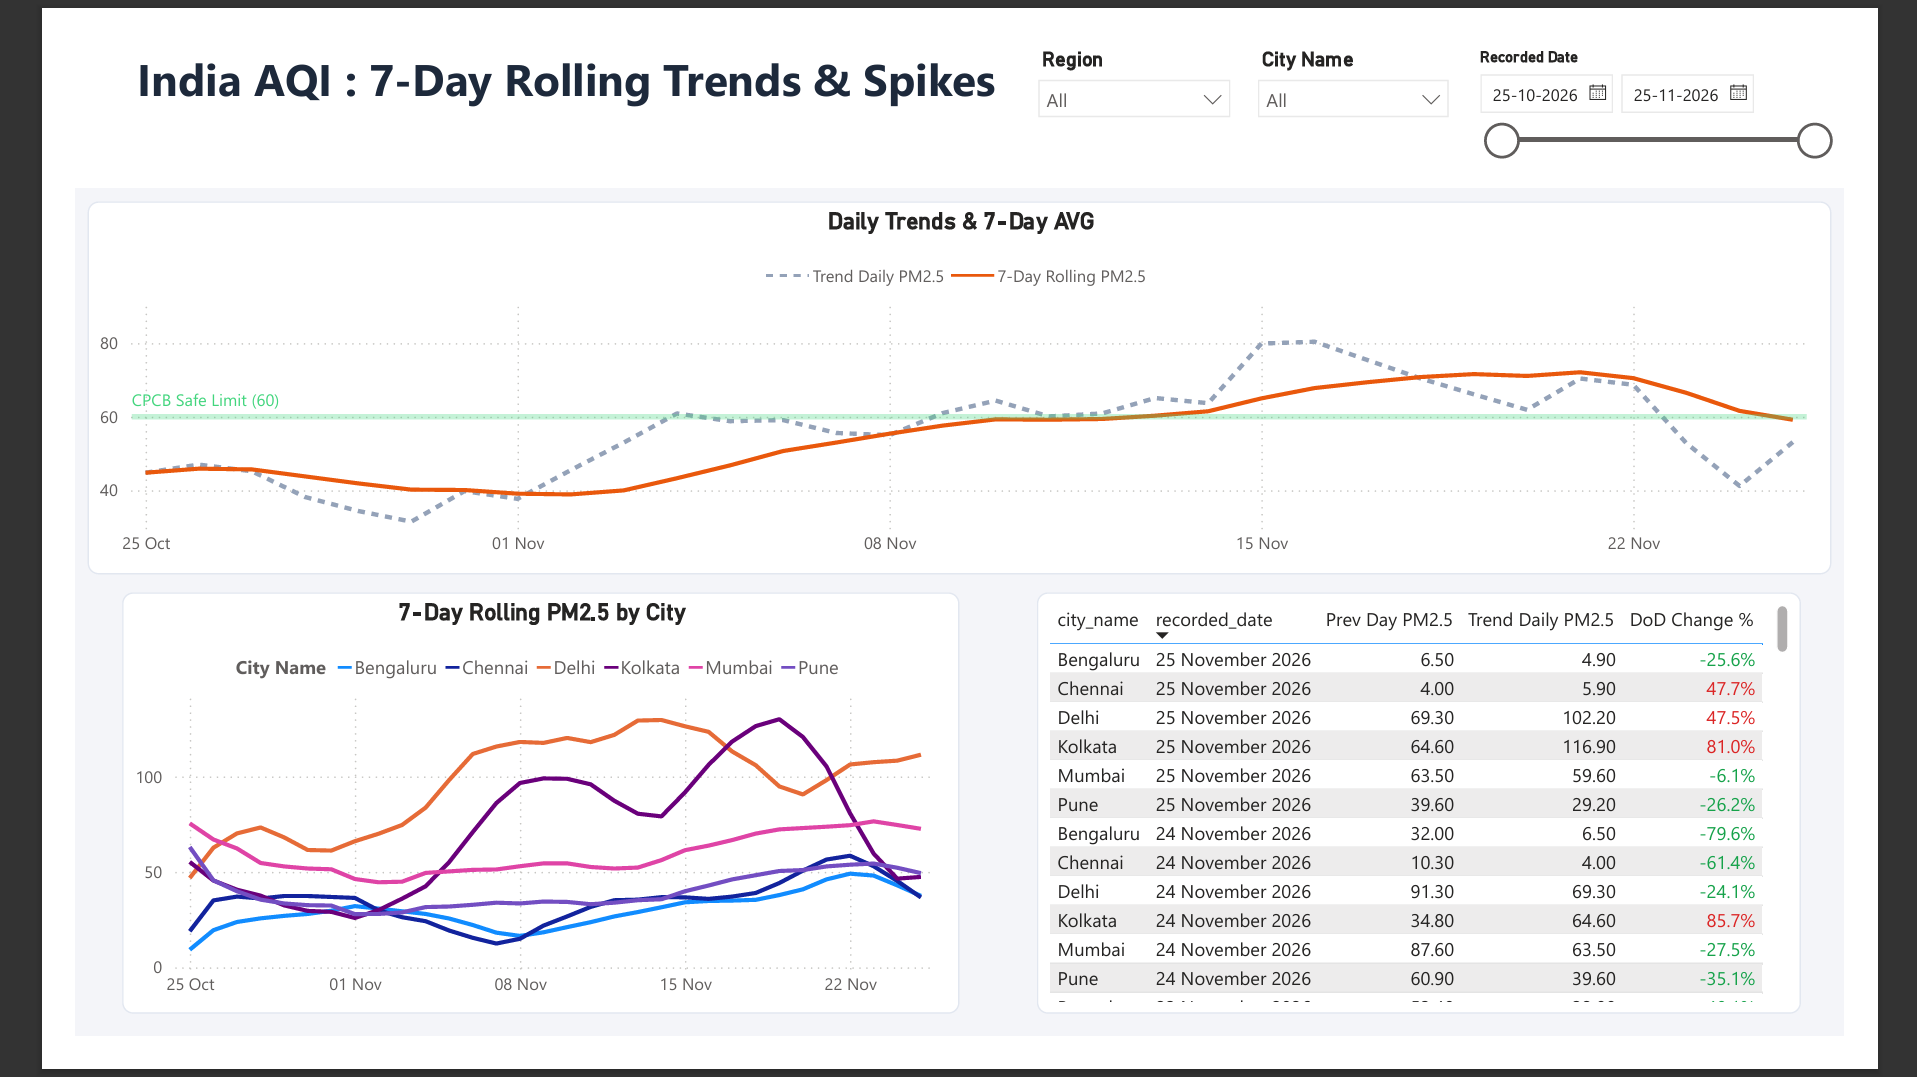

The page's visual inventory and layout, read from the dashboard file:
{"tool":"powerbi","page":{"name":"Rolling Trends & Spikes","canvas":[1280,720],"ordinal":1},"visuals":[{"type":"textbox","box":[0,0,1280,105.7],"z":0},{"type":"slicer","title":"sss","fields":{"Values":["vw_city_pollution_trends.recorded_date"]},"box":[1004.3,0,275.7,105.7],"z":1000},{"type":"lineChart","title":"Daily Trends & 7-Day AVG","fields":{"Category":["vw_city_pollution_trends.recorded_date"],"Y":["_Measures.Trend Daily PM2.5","_Measures.7-Day Rolling PM2.5"]},"box":[8.8,116.2,1262.5,270],"z":2000},{"type":"lineChart","title":"7-Day Rolling PM2.5 by City","fields":{"Category":["vw_city_pollution_trends.recorded_date"],"Y":["_Measures.7-Day Rolling PM2.5"],"Series":["dim_city.city_name"]},"box":[33.8,398.8,606.2,305],"z":3000},{"type":"tableEx","fields":{"Values":["dim_city.city_name","vw_city_pollution_trends.recorded_date","_Measures.Prev Day PM2.5","_Measures.Trend Daily PM2.5","_Measures.DoD Change %"]},"box":[696.2,398.8,552.5,305],"z":4000},{"type":"slicer","fields":{"Values":["dim_city.region"]},"box":[687.1,0,158.6,105.7],"z":5000},{"type":"slicer","fields":{"Values":["dim_city.city_name"]},"box":[845.7,0,158.6,105.7],"z":6000}]}

Visuals, with their boxes in screenshot pixels (x1, y1, x2, y2), scaled from the page's 1280x720 canvas onto the 1917x1077 screenshot:
textbox: [left=0, top=0, right=1916, bottom=158]
"sss" slicer: [left=1504, top=0, right=1916, bottom=158]
"Daily Trends & 7-Day AVG" lineChart: [left=13, top=174, right=1904, bottom=578]
"7-Day Rolling PM2.5 by City" lineChart: [left=51, top=597, right=958, bottom=1053]
tableEx - dim_city.city_name x vw_city_pollution_trends.recorded_date: [left=1043, top=597, right=1870, bottom=1053]
slicer - dim_city.region: [left=1029, top=0, right=1267, bottom=158]
slicer - dim_city.city_name: [left=1267, top=0, right=1504, bottom=158]
